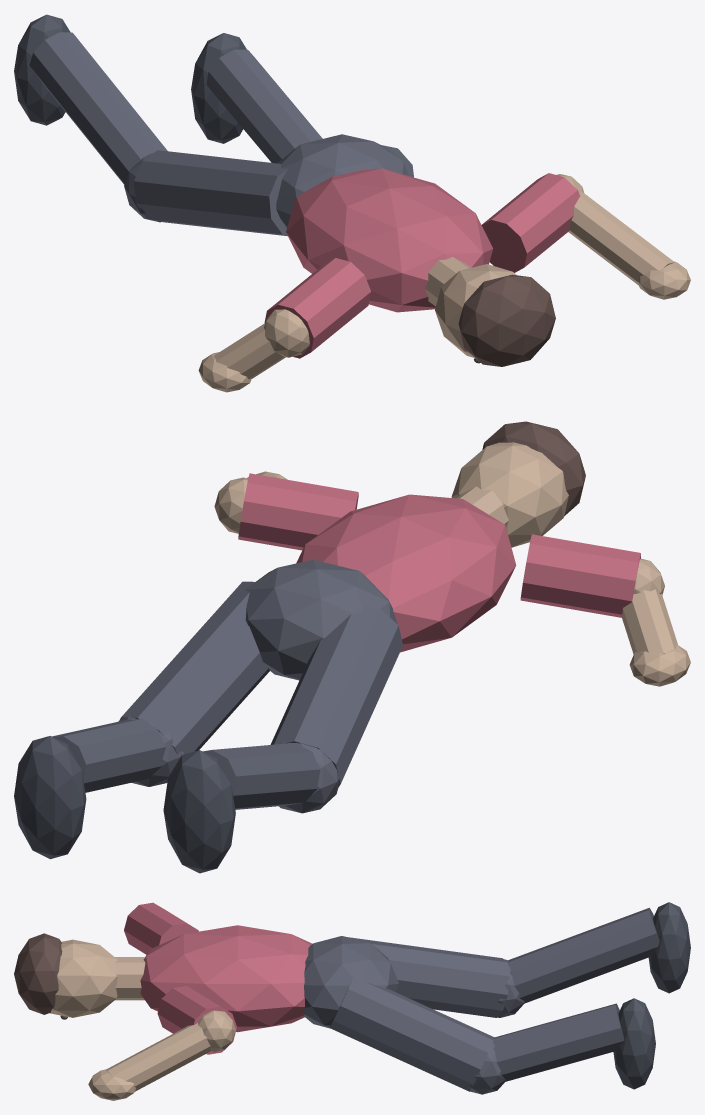
3 renders of one model, top to bottom at view 1: azimuth 30°, elevation 25°; view 2: azimuth 150°, elevation 25°; view 3: azimuth 270°, elevation 25°, orthographic. The views are drawn at different scales.
Visible parts, largest first — view 1: world; view 2: world; view 3: world.
Boxes of the visible parts, x1,y1,x2,y2 form: world: (14,14,690,392); world: (14,421,690,873); world: (14,902,690,1100).
Bounding box in the file's own units: 1.25 × 0.4125 × 2.01.
